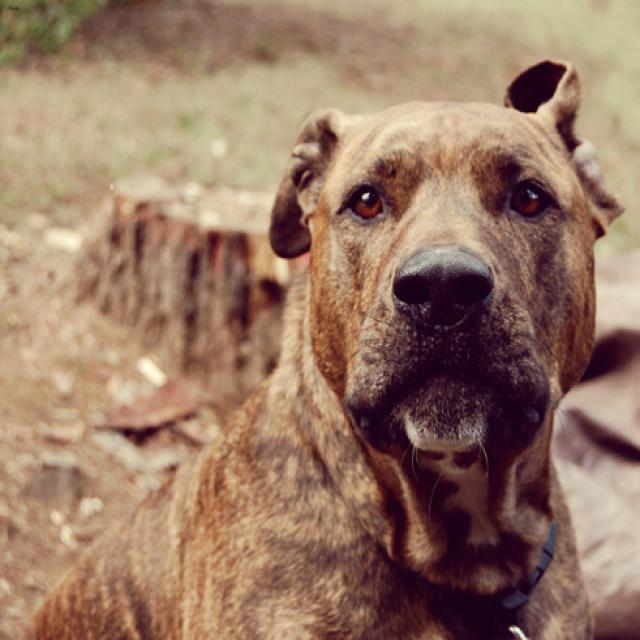dog-american_pit_bull_terrier: (1, 50, 635, 637)
